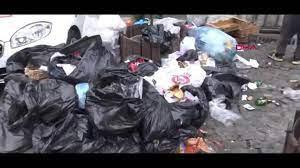Container: (119, 22, 161, 69)
Garbage: (60, 48, 190, 168), (1, 50, 79, 168), (215, 33, 256, 78), (251, 77, 274, 115), (172, 64, 201, 93), (156, 18, 185, 35), (145, 28, 167, 47)
